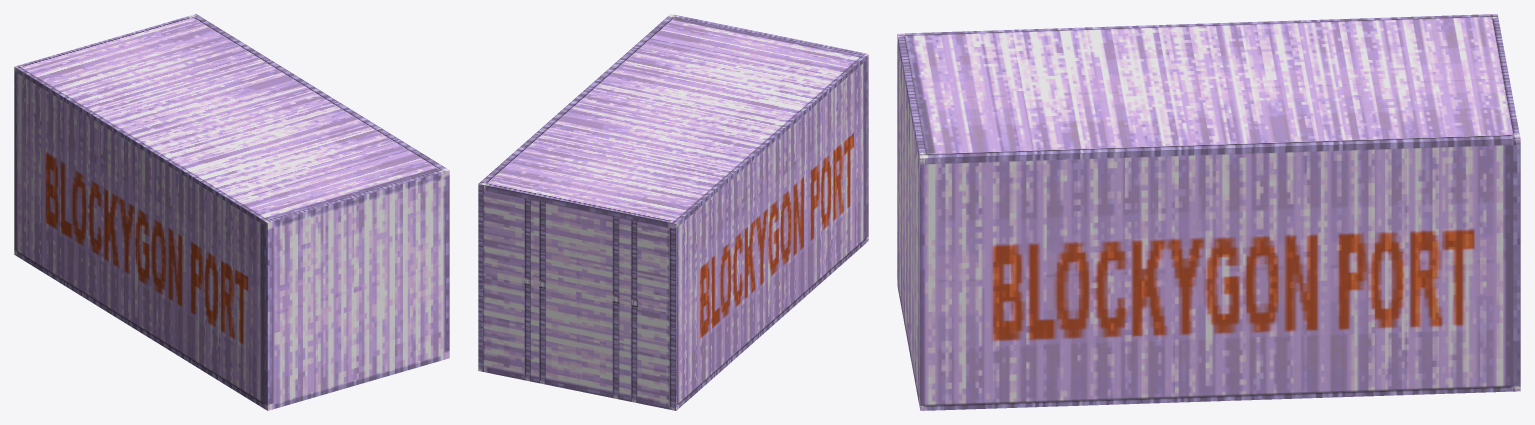
The model's file is BLOCKYGON_WHITE CONTAINER(CLOSED).fbx.
The picture shows the model from 3 angles, left to right: view 1: azimuth 30°, elevation 25°; view 2: azimuth 150°, elevation 25°; view 3: azimuth 270°, elevation 25°; orthographic projection. The views are drawn at different scales.
Visible parts, largest first — view 1: BLOCKYGON_WHITE_CONTAINER_CLOSED_; view 2: BLOCKYGON_WHITE_CONTAINER_CLOSED_; view 3: BLOCKYGON_WHITE_CONTAINER_CLOSED_.
Boxes of the visible parts, x1,y1,x2,y2 form: BLOCKYGON_WHITE_CONTAINER_CLOSED_: (14, 14, 449, 410); BLOCKYGON_WHITE_CONTAINER_CLOSED_: (478, 14, 868, 410); BLOCKYGON_WHITE_CONTAINER_CLOSED_: (897, 14, 1520, 410).
Bounding box in the file's own units: 251 × 204 × 456.
1 material, 1 textured.
